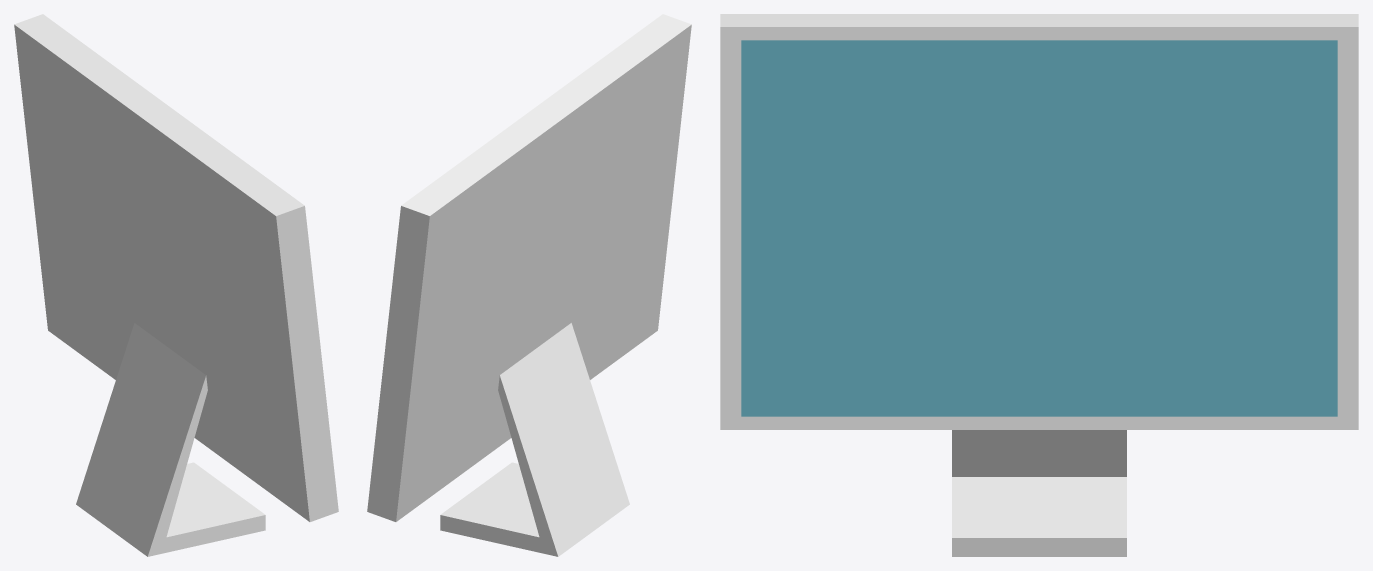
File: white_display.fbx
3 views of the same model, side by side, from view 1: azimuth 30°, elevation 25°; view 2: azimuth 150°, elevation 25°; view 3: azimuth 270°, elevation 25° (orthographic). The views are drawn at different scales.
Parts seen in each view (by area): view 1: Cube; view 2: Cube; view 3: Cube.
Part boxes in pixels (<box>): Cube: <box>14,14,338,556</box>; Cube: <box>367,14,691,556</box>; Cube: <box>720,14,1358,556</box>.
Bounding box in the file's own units: 78.13 × 258 × 300.
